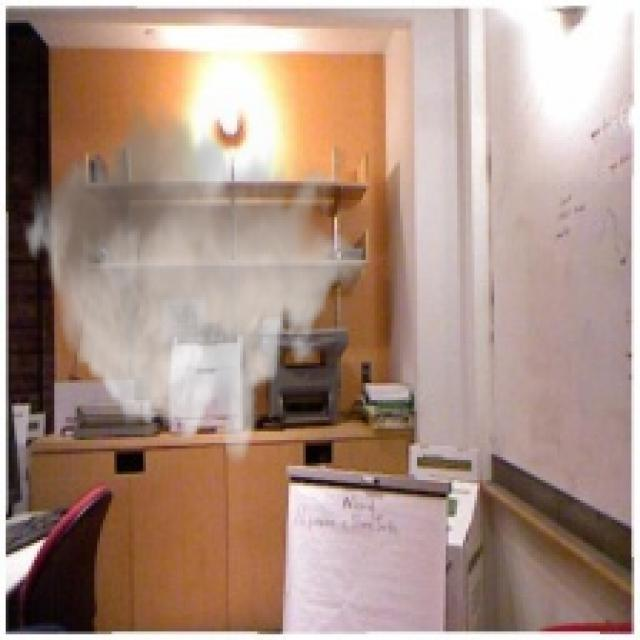smoke: (20, 94, 369, 466)
